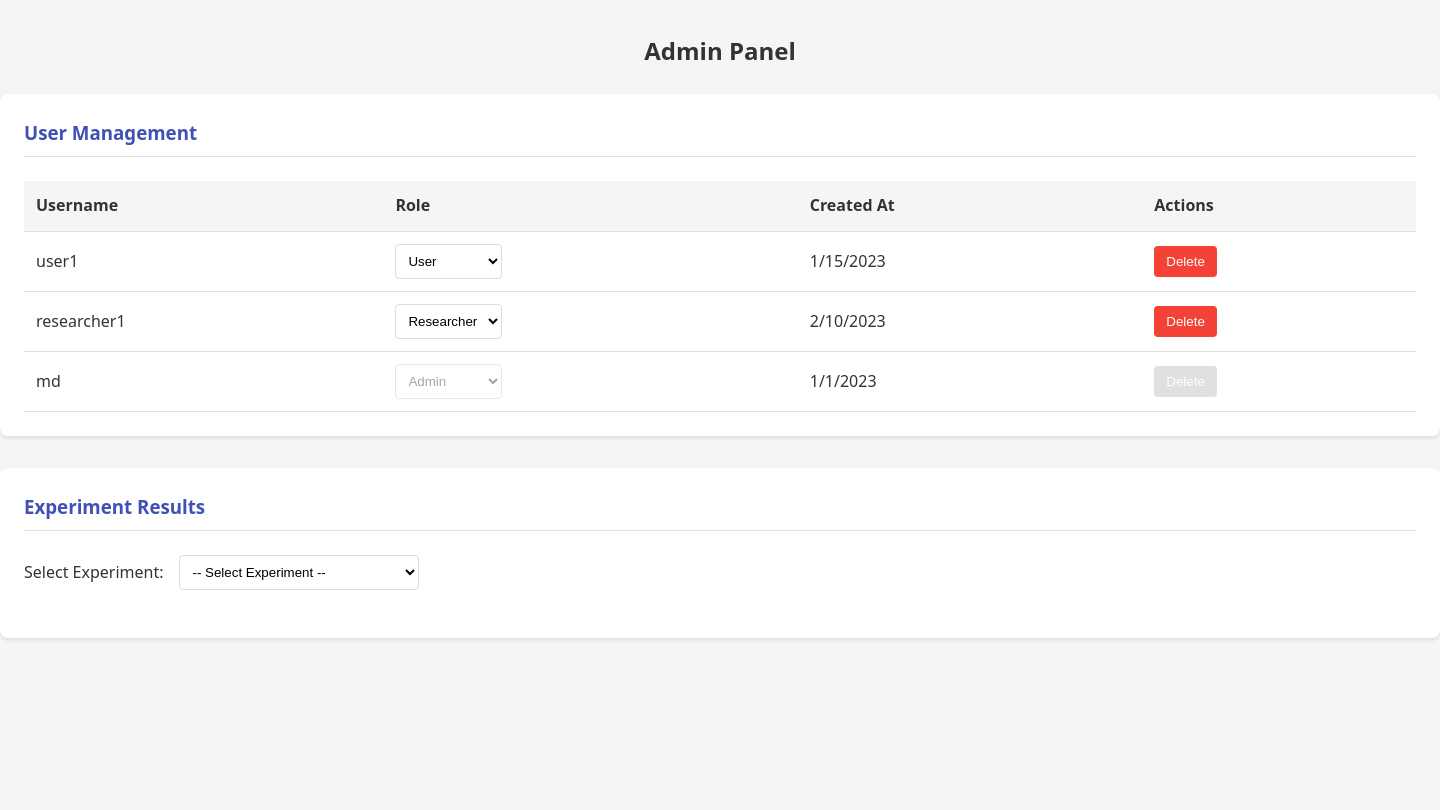
AdminPanel Component › User Deletion Functionality › displays error message when deletion fails
This screenshot has width=1440, height=810.
Click the button "Delete" in the row of "user1": (1186, 261) x1=1154 y1=246 x2=1217 y2=277
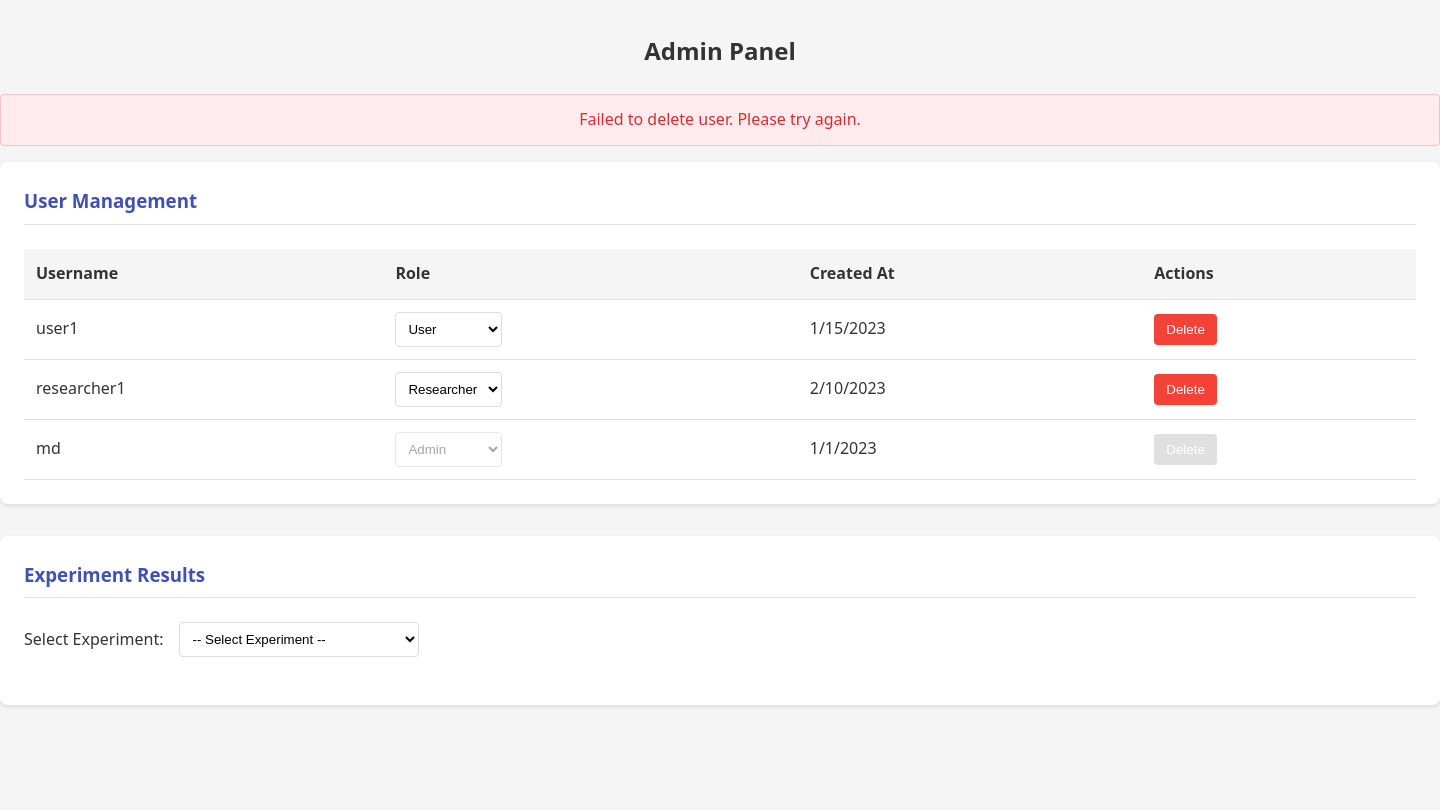
Now the text "Failed to delete user. Please try again." is shown, box x1=0 y1=94 x2=1439 y2=146
